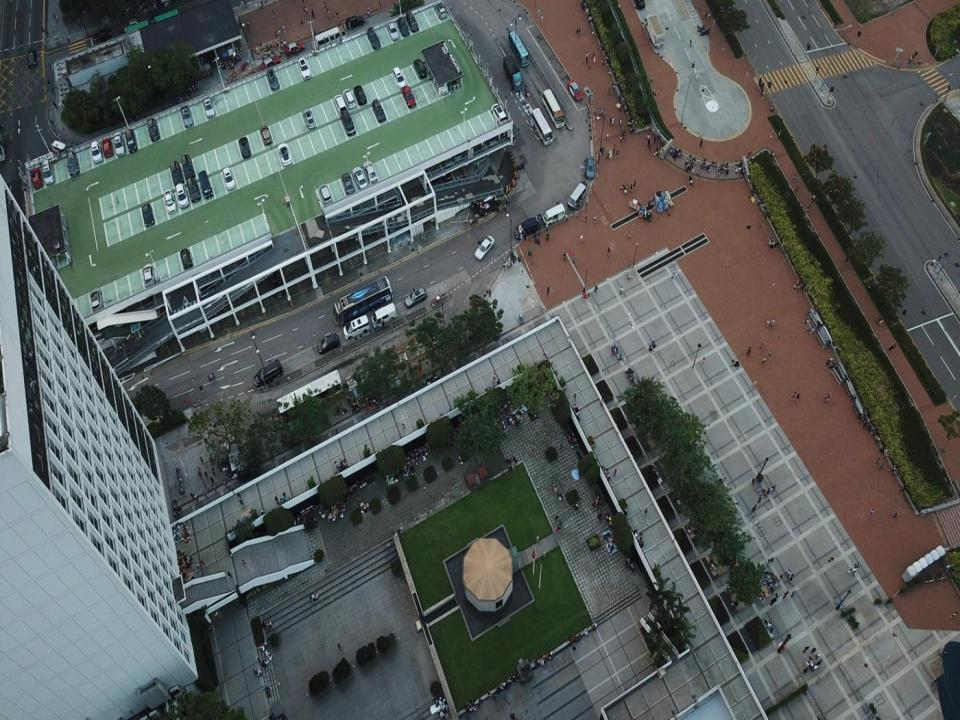bus: (276, 369, 344, 426), (332, 276, 393, 326), (542, 88, 564, 128), (531, 108, 553, 145), (508, 30, 530, 66), (0, 124, 8, 162)
car: (474, 235, 494, 260), (318, 334, 340, 354), (352, 165, 367, 193), (405, 289, 427, 308), (491, 103, 507, 127), (277, 142, 292, 166), (401, 85, 416, 108), (143, 262, 156, 288), (367, 26, 381, 50), (363, 160, 377, 184), (42, 160, 55, 185), (164, 189, 177, 214), (187, 177, 200, 202), (90, 288, 103, 313), (66, 151, 79, 175), (147, 118, 160, 142), (176, 182, 188, 208), (182, 155, 195, 179), (171, 161, 184, 185), (568, 80, 582, 102), (203, 94, 215, 119), (372, 99, 385, 122), (113, 132, 125, 156), (142, 202, 154, 226), (319, 182, 331, 206), (259, 57, 281, 70), (285, 42, 305, 56), (239, 136, 251, 159), (303, 107, 316, 128), (334, 94, 347, 115), (93, 29, 112, 43), (90, 140, 102, 162), (125, 128, 136, 152), (181, 104, 193, 126), (223, 167, 235, 189), (180, 248, 192, 270), (298, 58, 310, 80), (342, 172, 353, 195), (397, 15, 409, 36), (343, 87, 355, 108), (406, 11, 418, 32), (354, 85, 367, 104), (267, 68, 278, 90), (414, 58, 426, 78), (31, 169, 42, 190), (386, 21, 398, 40), (260, 125, 271, 145), (436, 77, 448, 95), (123, 19, 142, 30), (102, 139, 113, 158), (434, 1, 446, 18), (485, 128, 496, 146), (586, 156, 594, 179), (27, 50, 37, 68), (374, 185, 384, 201), (431, 170, 441, 186), (443, 168, 451, 181), (634, 0, 645, 9), (422, 162, 429, 176)
truck: (504, 55, 524, 91), (646, 15, 664, 47)
van: (253, 359, 283, 387), (315, 25, 347, 51), (513, 214, 543, 239), (343, 316, 370, 341), (567, 182, 588, 210), (372, 302, 397, 324), (542, 203, 564, 223), (198, 170, 212, 199), (340, 108, 355, 134), (270, 270, 283, 298), (392, 66, 407, 90), (51, 140, 72, 157), (346, 15, 364, 30), (197, 312, 207, 332), (454, 141, 462, 160), (152, 303, 161, 319), (444, 149, 452, 166)
